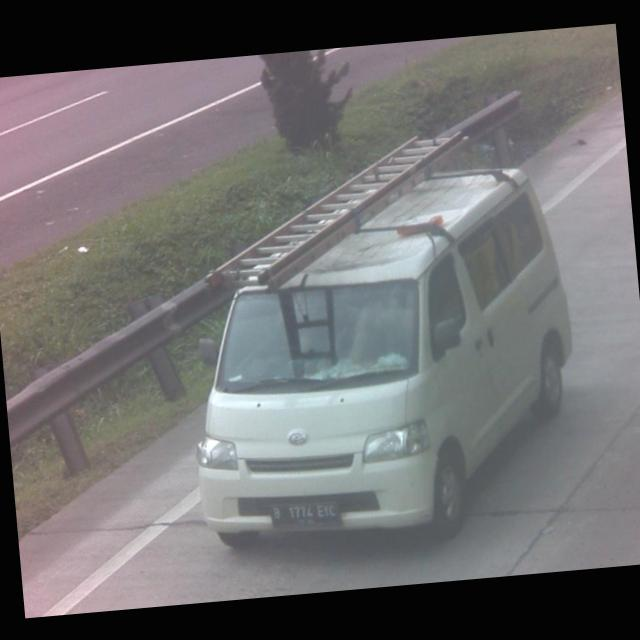plate: (268, 495, 340, 533)
